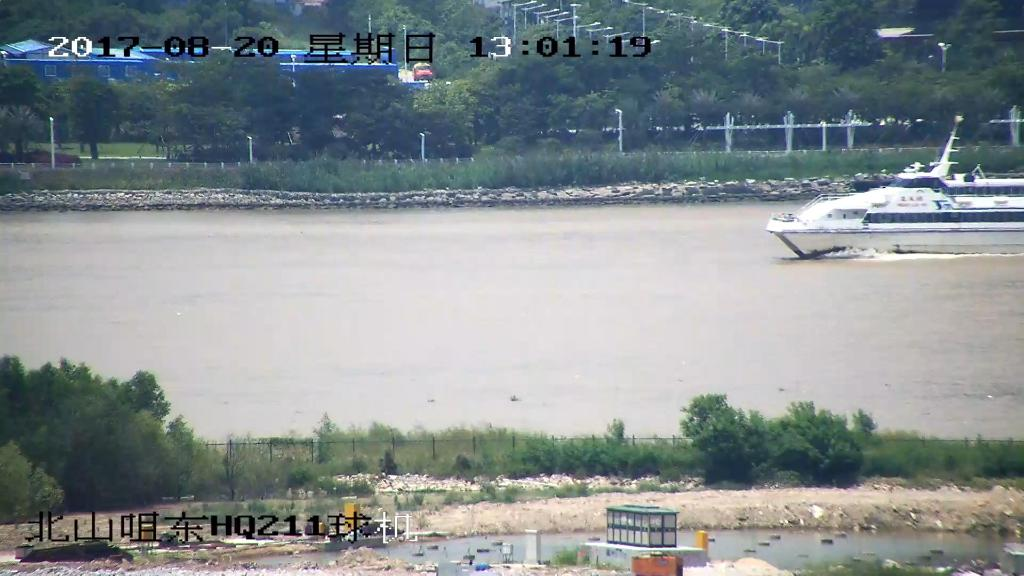PassengerShip: (764, 133, 1024, 263)
